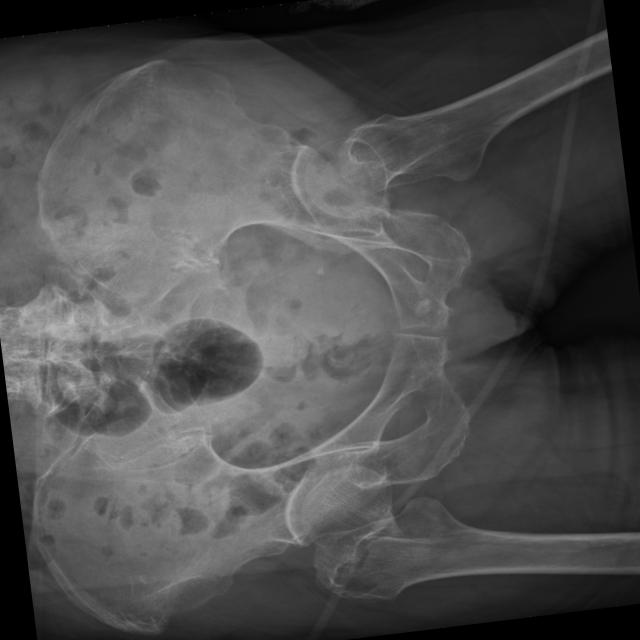normal-left: (304, 74, 531, 217)
right-neck: (311, 495, 524, 603), (301, 462, 401, 546)
